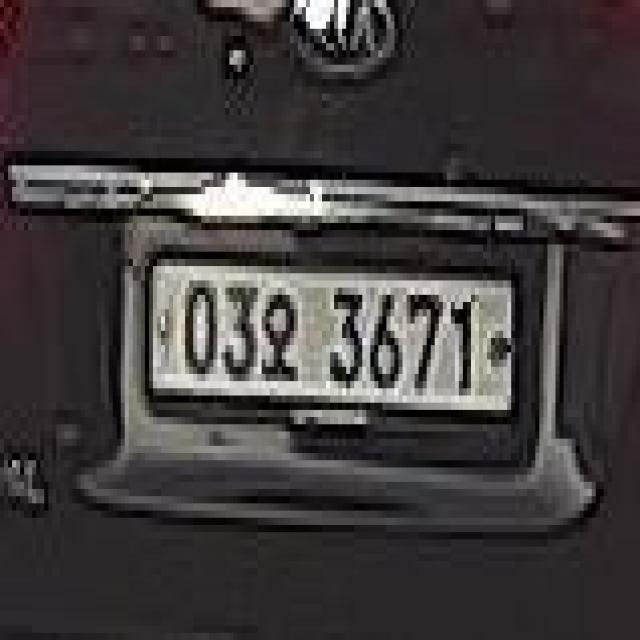illegal_plate: (140, 244, 522, 448)
